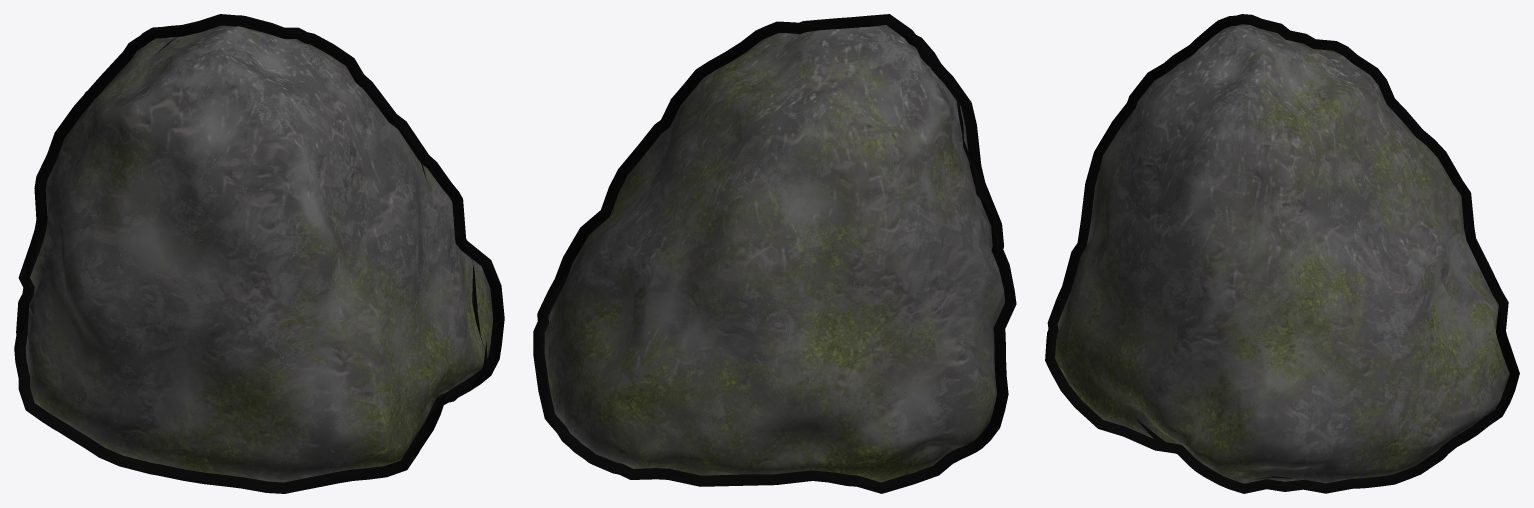
The model's file is Rock1.fbx.
3 views of the same model, side by side, from view 1: azimuth 30°, elevation 25°; view 2: azimuth 150°, elevation 25°; view 3: azimuth 270°, elevation 25° (orthographic). The views are drawn at different scales.
Visible parts, largest first — view 1: Rock1; view 2: Rock1; view 3: Rock1.
Part boxes in pixels (box(x1,y1,x2,y2)): Rock1: box(14, 14, 504, 493); Rock1: box(533, 14, 1016, 493); Rock1: box(1045, 14, 1519, 493).
Bounding box in the file's own units: 100 × 90.41 × 100.
Materials: 2 (1 with a texture image).
